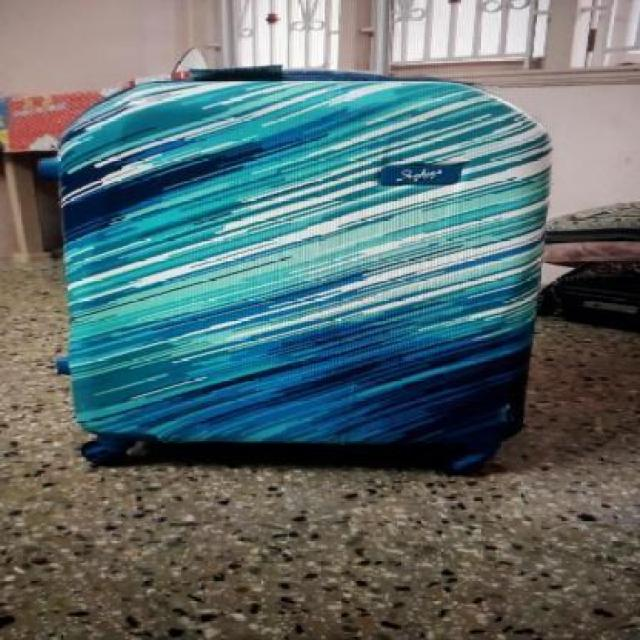backpack: (52, 59, 557, 482)
